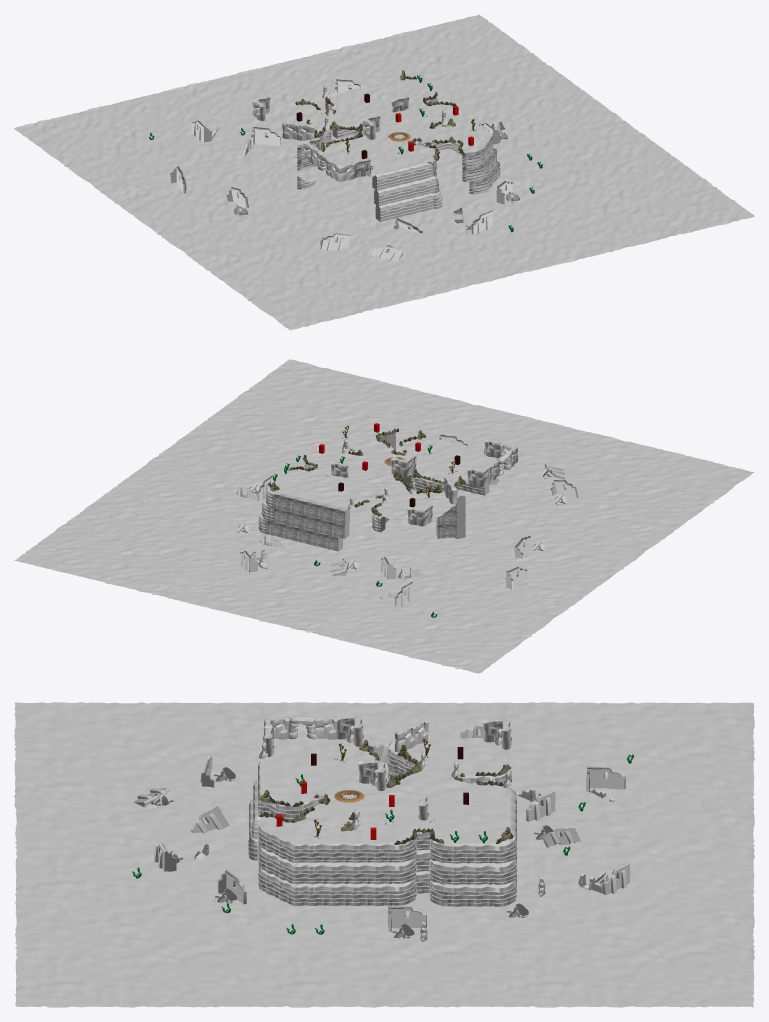
The model's file is Level1_Room5_New.fbx.
3 renders of one model, top to bottom at view 1: azimuth 30°, elevation 25°; view 2: azimuth 150°, elevation 25°; view 3: azimuth 270°, elevation 25°, orthographic. The views are drawn at different scales.
Parts seen in each view (by area): view 1: Plane076, Plane083, level1_wall057, ruined_wall009, Wall_Cap003, MiddleRock030; view 2: Plane076, Plane083, level1_wall057, ruined_wall009, Wall_Cap003, MiddleRock030, ruined_wall_doorway004, rubble_medium005, GigaRock010; view 3: Plane076, Plane083, level1_wall057, ruined_wall009, Wall_Cap003, rubble_medium005, MiddleRock030, ruined_wall_doorway004, GigaRock010, ColumnRock002.
Boxes of the visible parts, x1,y1,x2,y2 form: Plane076: (14,14,754,330); Plane083: (260,78,492,182); level1_wall057: (297,78,500,221); ruined_wall009: (169,79,512,261); Wall_Cap003: (252,96,409,181); MiddleRock030: (295,76,464,153); Plane076: (14,359,754,673); Plane083: (271,425,534,522); level1_wall057: (258,429,489,551); ruined_wall009: (239,435,578,607); Wall_Cap003: (331,439,517,526); MiddleRock030: (267,428,457,516); ruined_wall_doorway004: (236,486,425,599); rubble_medium005: (235,467,569,569); GigaRock010: (270,430,465,514); Plane076: (14,702,754,1007); Plane083: (259,723,510,844); level1_wall057: (248,742,517,906); ruined_wall009: (133,724,630,931); Wall_Cap003: (263,716,511,820); rubble_medium005: (151,746,607,938); MiddleRock030: (259,748,511,844); ruined_wall_doorway004: (194,788,614,942); GigaRock010: (259,739,513,839); ColumnRock002: (258,725,512,829).
Size of the model in its own units: 5129 by 735 by 5267.
